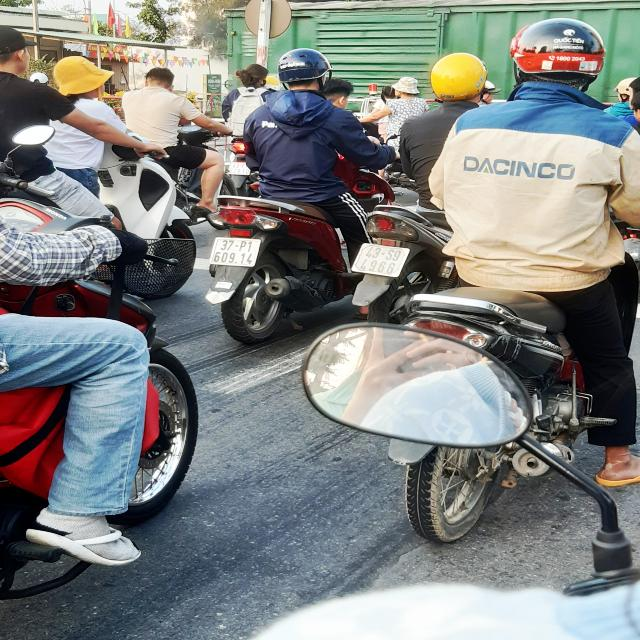license_plate: (355, 244, 410, 277), (211, 239, 262, 267)
